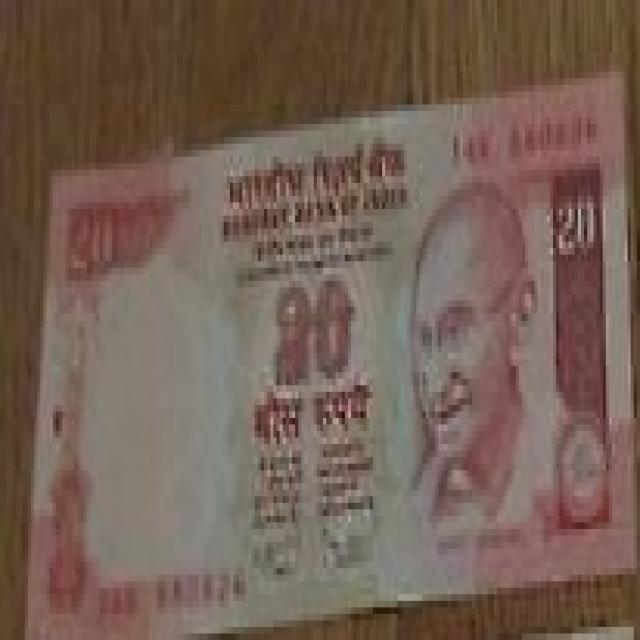20rs: (29, 71, 640, 638)
